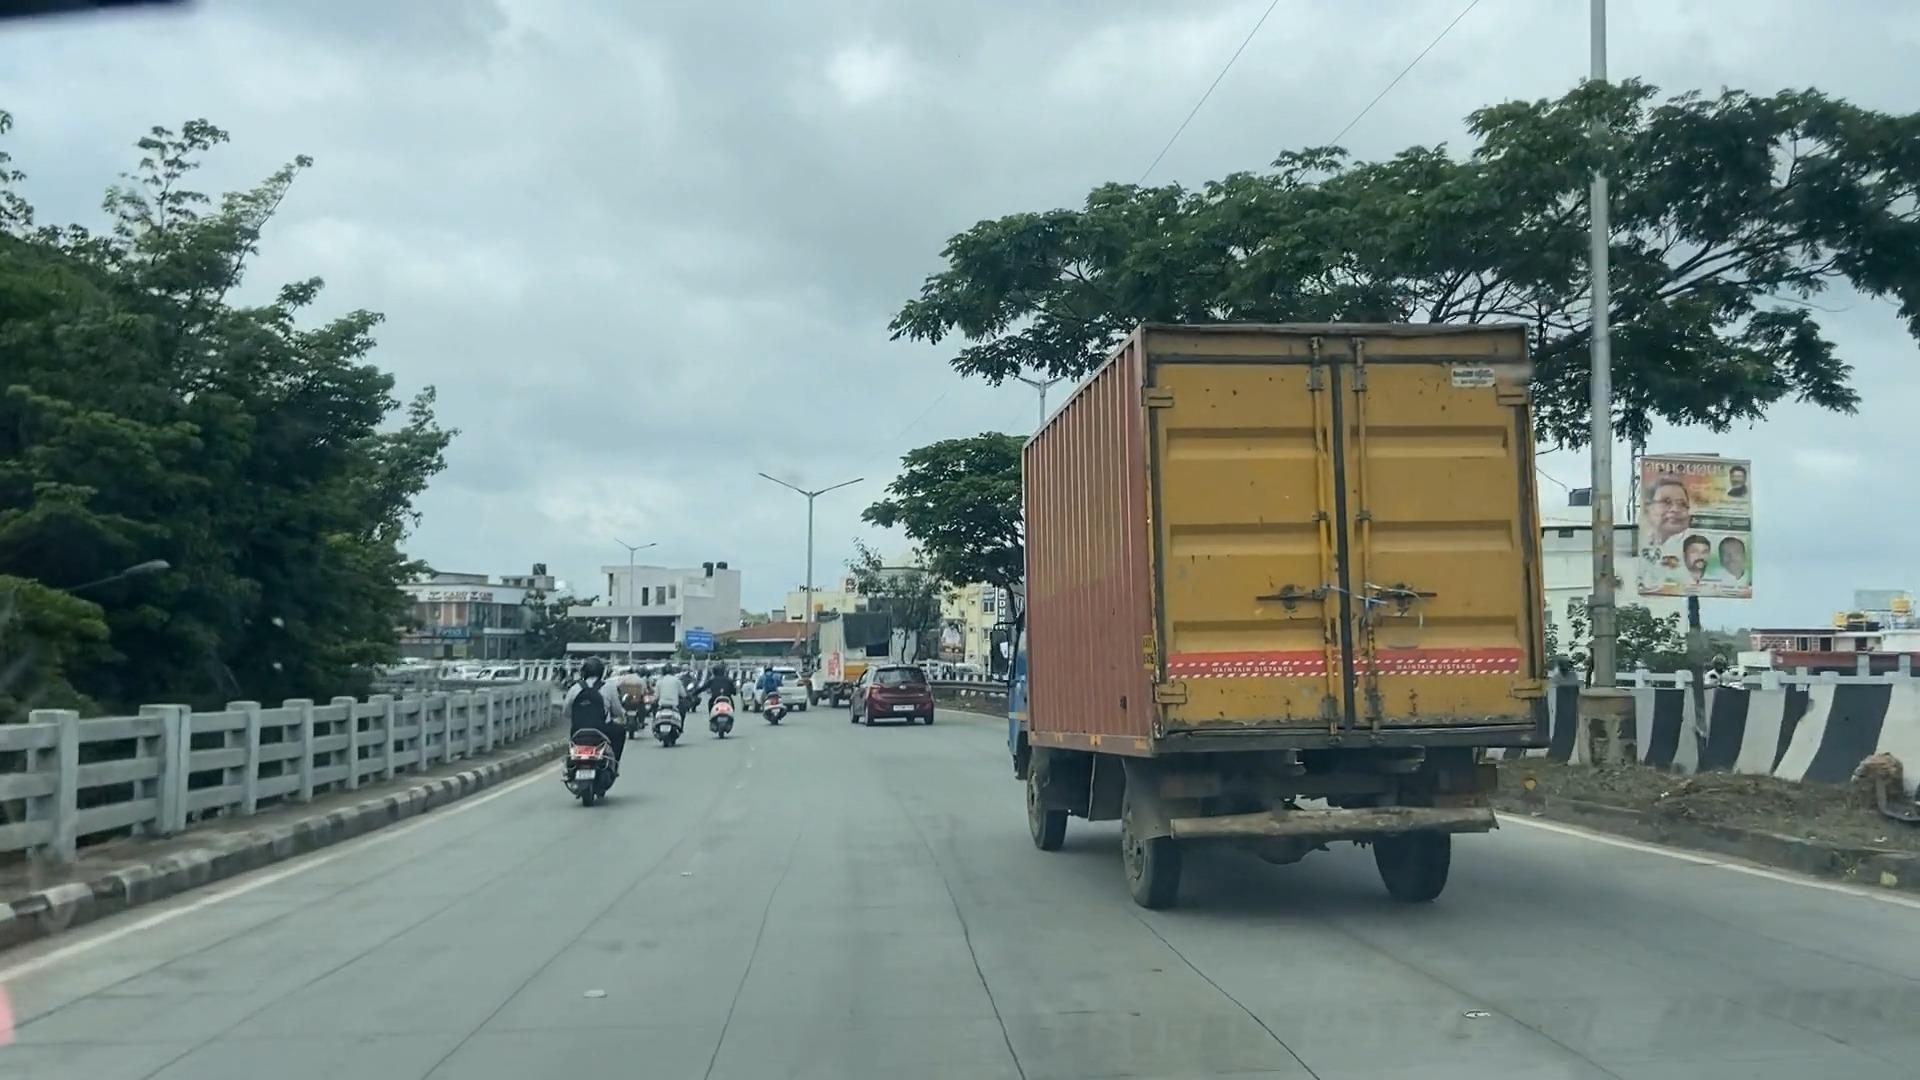HMV: (1052, 356, 1520, 910)
LMV: (560, 647, 621, 812), (642, 647, 694, 749), (753, 655, 794, 732), (723, 651, 742, 709)
